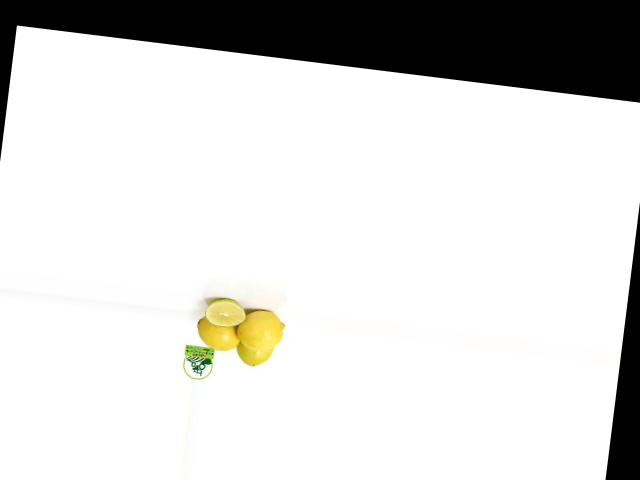lemon: (236, 304, 290, 353)
